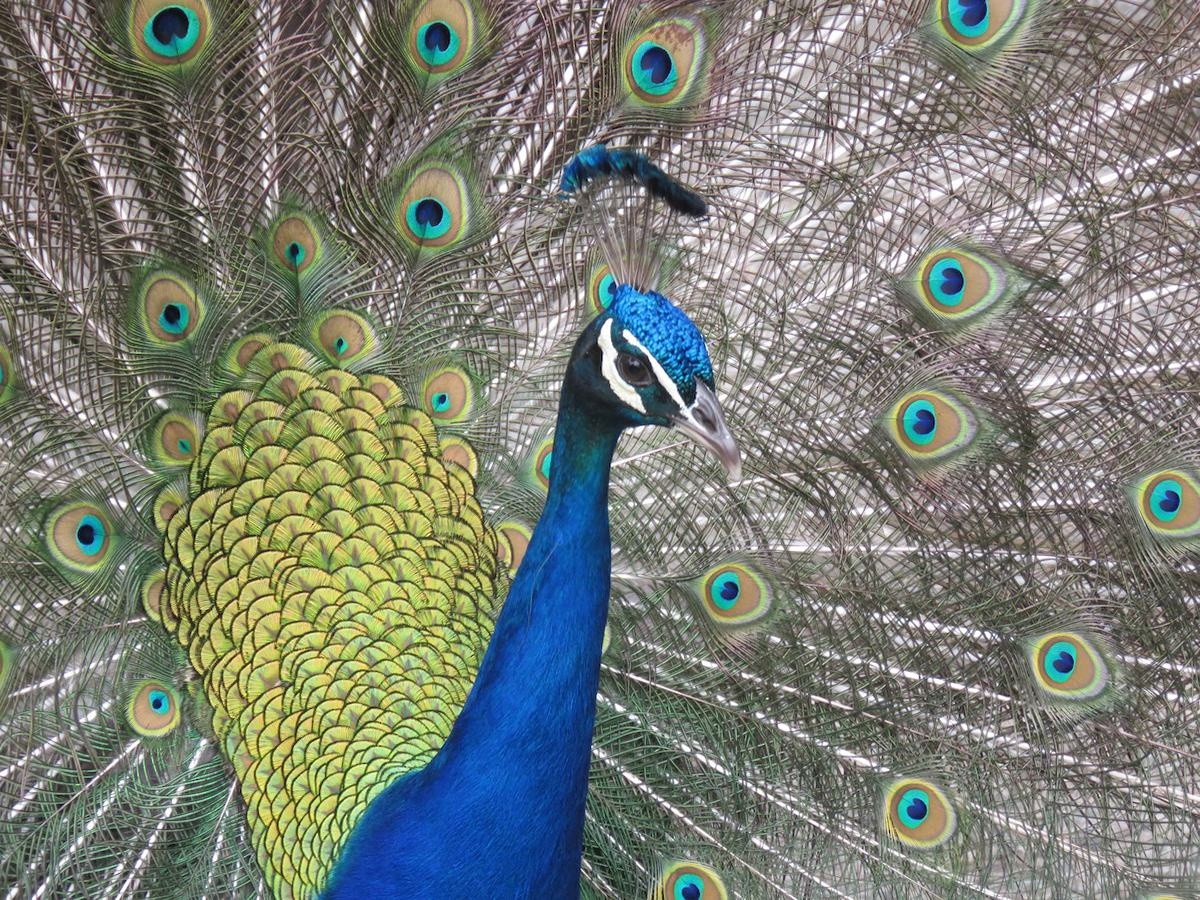peacock: (1, 1, 1190, 897)
